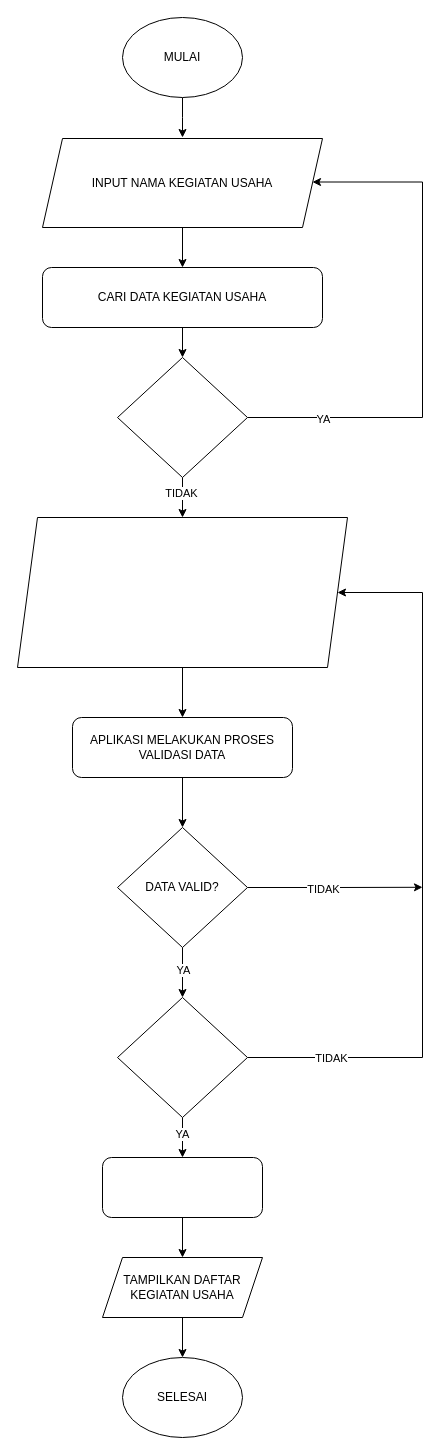
The diagram is 448 pixels wide and 1455 high, and some of its shapes have lost their labels. The shapes that lost their labels are listed below. From the top down, each one's box as (x1, y1, x2, y2) in pixels, then its label:
(116, 356, 248, 478): DATA DITEMUKAN?
(16, 516, 348, 668): MASUKKAN : NAMA KEGIATAN USAHA
(116, 996, 248, 1118): SIMPAN DATA?
(102, 1156, 262, 1218): PROSES SIMPAN DATA
